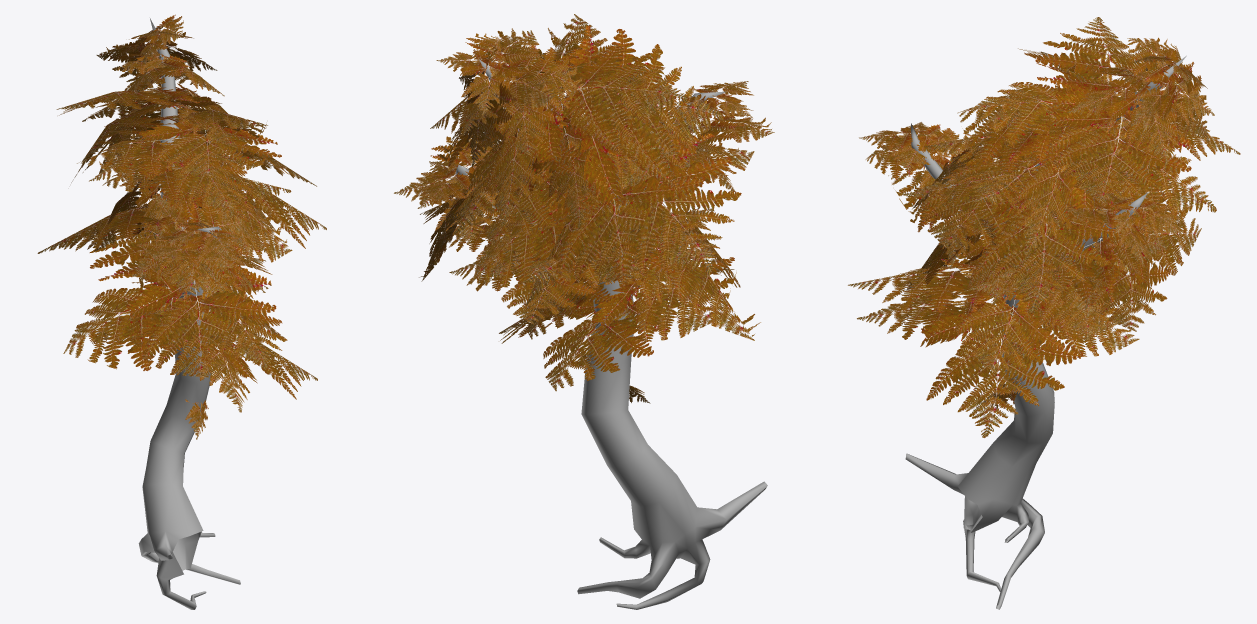
File: air_treeFL01_01_mesh.fbx
3 views of the same model, side by side, from view 1: azimuth 30°, elevation 25°; view 2: azimuth 150°, elevation 25°; view 3: azimuth 270°, elevation 25° (orthographic). The views are drawn at different scales.
Parts seen in each view (by area): view 1: air_treeFI01_01_mesh; view 2: air_treeFI01_01_mesh; view 3: air_treeFI01_01_mesh.
Part boxes in pixels (box(x1,y1,x2,y2)): air_treeFI01_01_mesh: box(37, 14, 326, 609); air_treeFI01_01_mesh: box(394, 14, 774, 609); air_treeFI01_01_mesh: box(848, 17, 1240, 609).
Size of the model in its own units: 1561 by 2588 by 1662.
